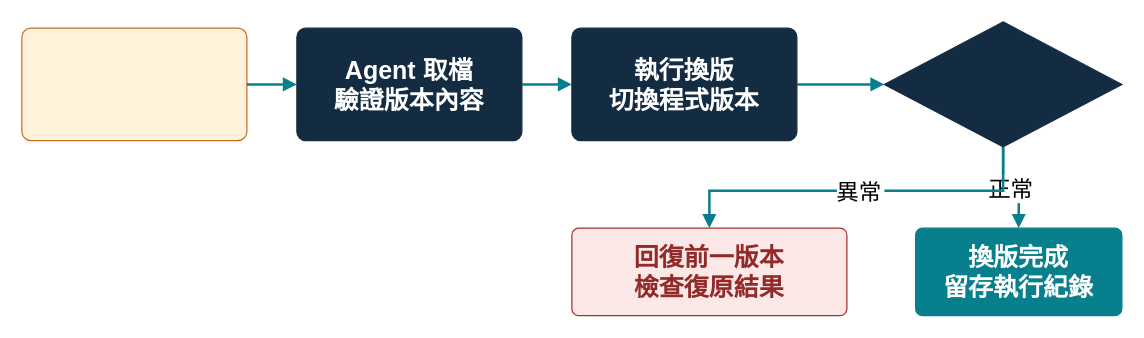
Some shapes in this 1144 by 338 pixel diagram are drawn without their labels. Each missing label, with the centre of its shape:
健康檢查 是否正常？: the point at 1002,84
部署人員 選版並放行: the point at 134,84
